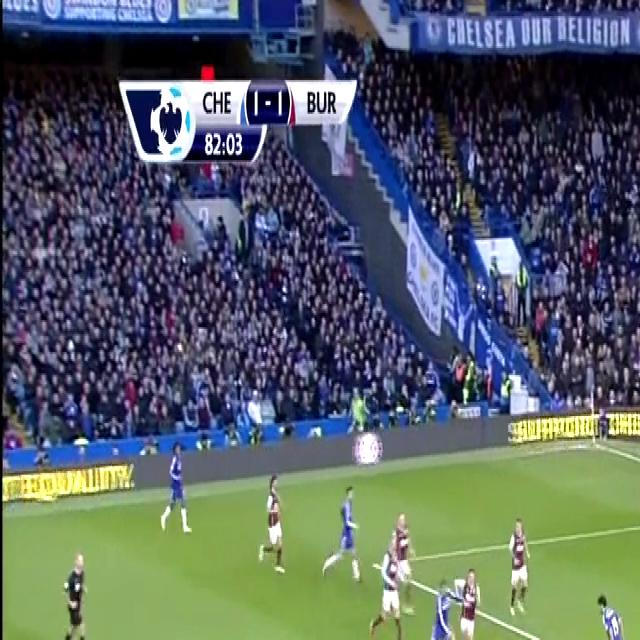referee: (53, 538, 95, 640)
soccer-player: (316, 477, 364, 594), (368, 540, 412, 640), (155, 433, 195, 542), (257, 467, 292, 581), (506, 505, 538, 623), (415, 569, 462, 640), (391, 506, 420, 600), (448, 558, 481, 640), (589, 585, 629, 640), (555, 638, 598, 640)
